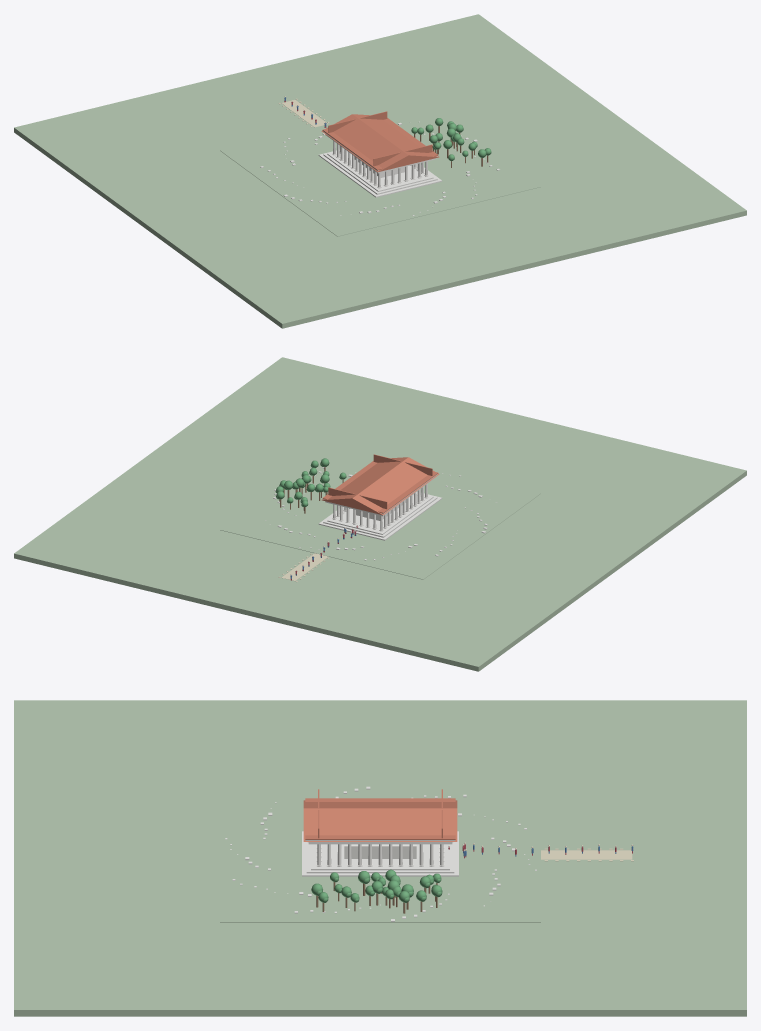
Rendered from TempioGreco_scene.glb.
The picture shows the model from 3 angles, top to bottom: view 1: azimuth 30°, elevation 25°; view 2: azimuth 150°, elevation 25°; view 3: azimuth 270°, elevation 25°; orthographic projection. The views are drawn at different scales.
Parts seen in each view (by area): view 1: GreekTempleScene; view 2: GreekTempleScene; view 3: GreekTempleScene.
Part boxes in pixels (x1,y1,x2,y2): GreekTempleScene: [14, 14, 746, 328]; GreekTempleScene: [14, 357, 746, 671]; GreekTempleScene: [14, 700, 746, 1016].
Size of the model in its own units: 160 by 12.88 by 160.
